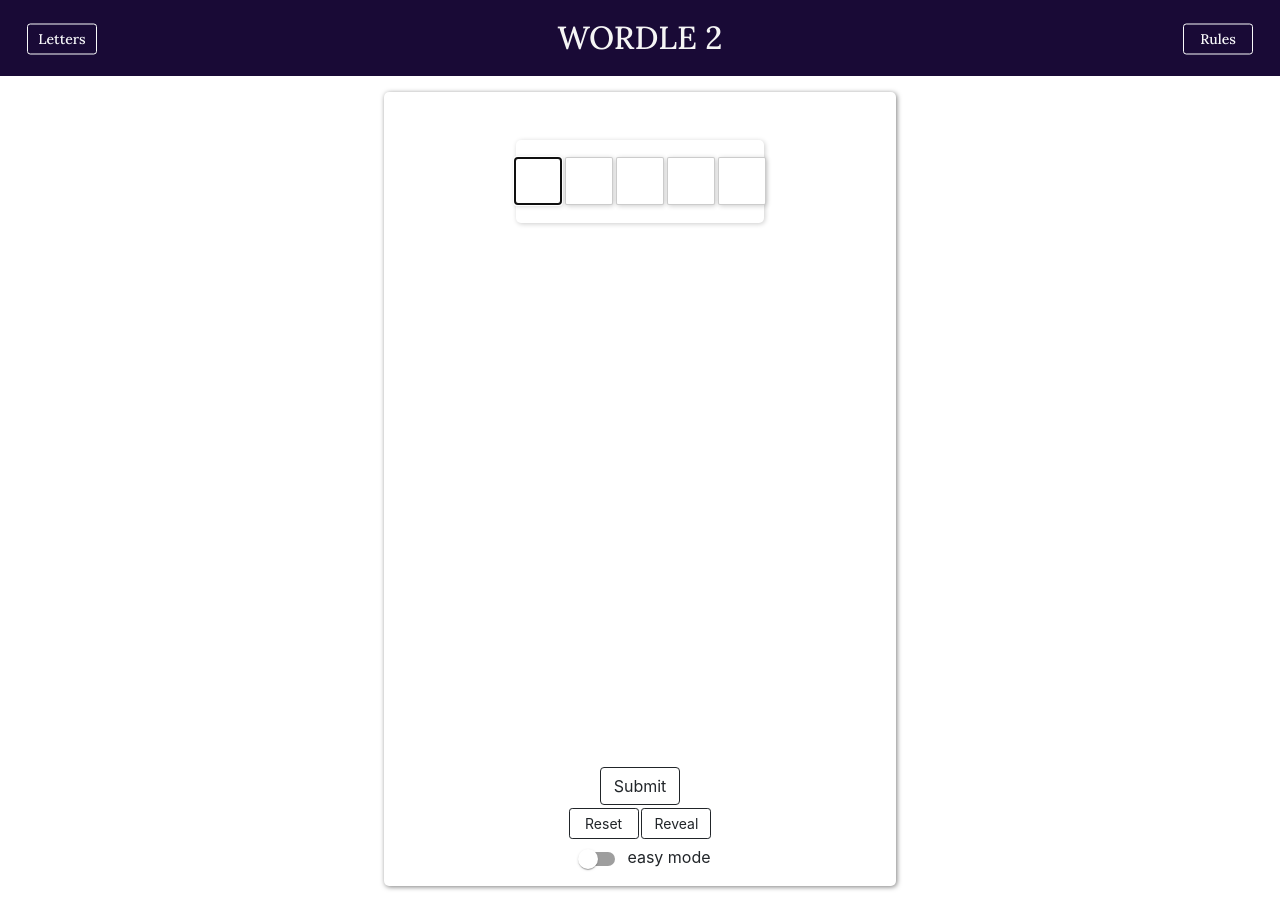
Scenario: warns user about invalid word length
The width and height of the screenshot is (1280, 900).
Press a in the field with test id "input0", box [514, 157, 562, 205]
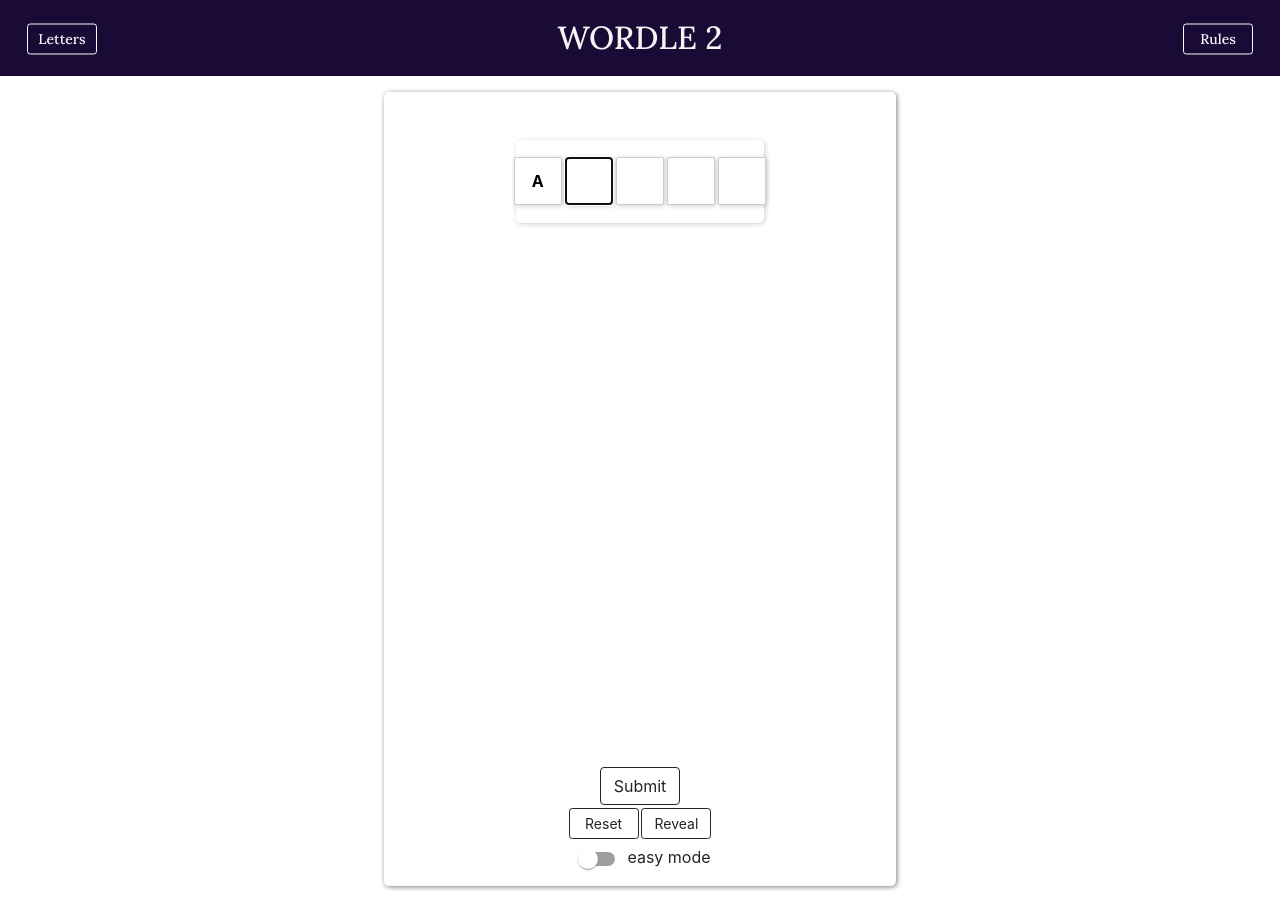
Click the button with test id "submitButton" at x=640, y=786, box [600, 767, 680, 805]
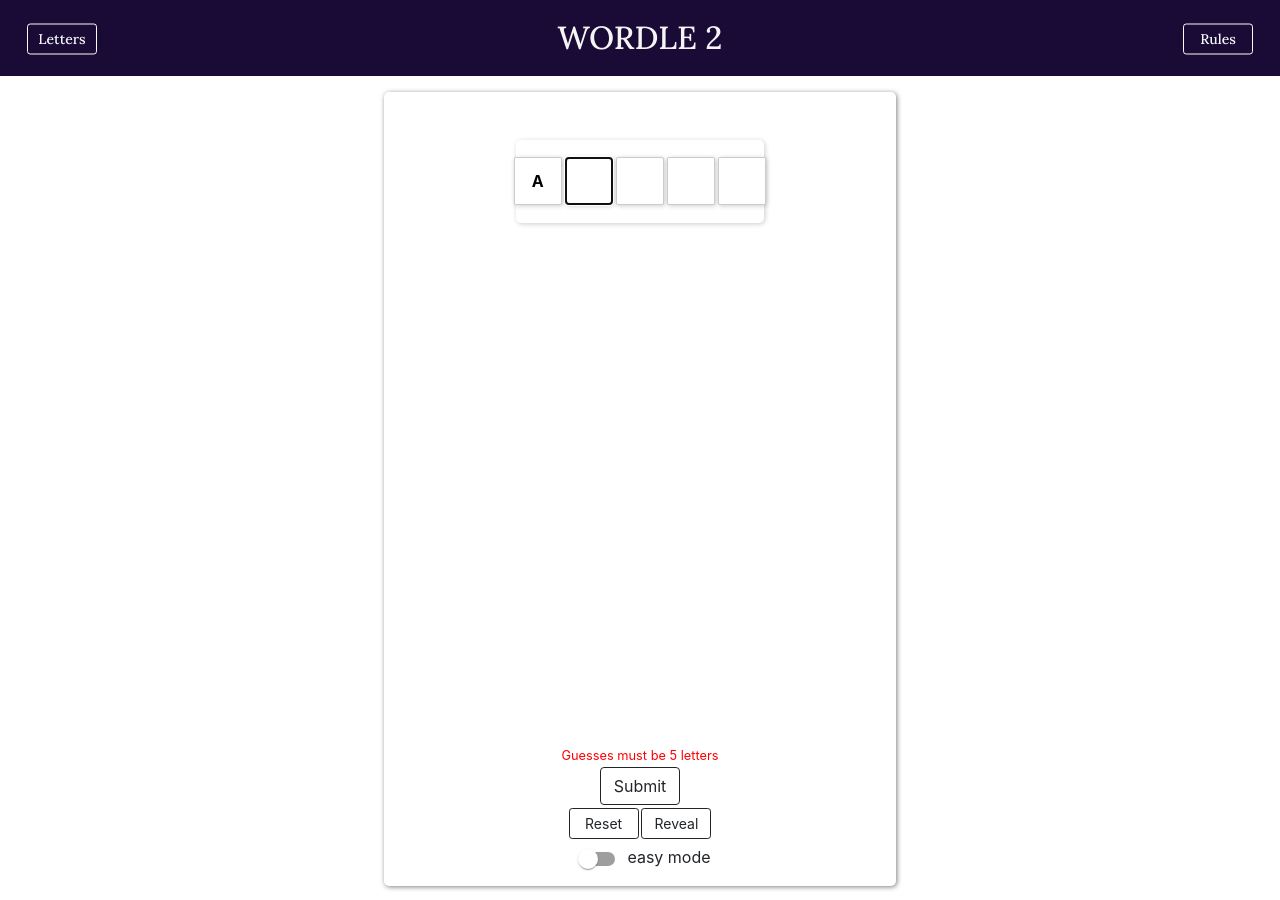
Expected: the text "Guesses must be 5 letters" is shown, [561, 746, 719, 759]
